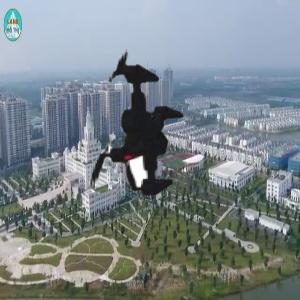drone: (21, 22, 238, 239)
